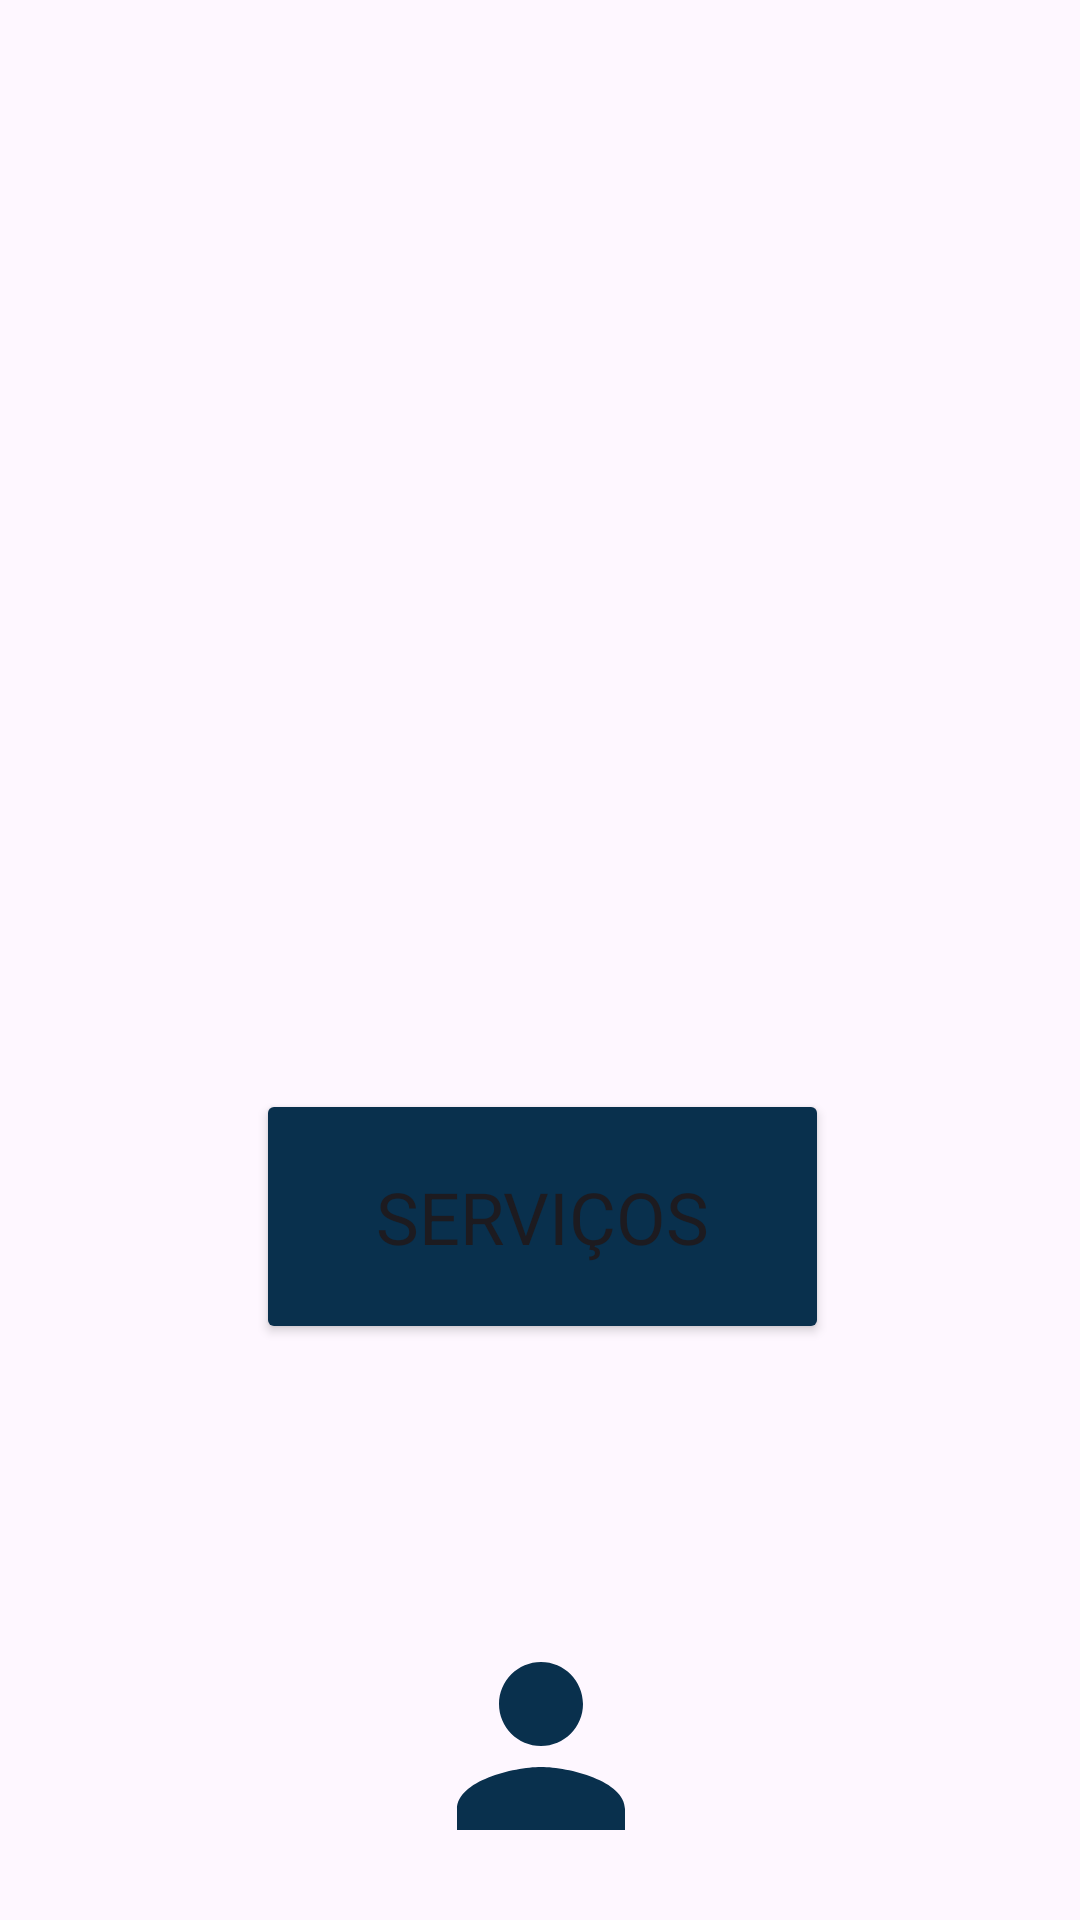

Screen size 1080x1920. Icon name, then its box in pixels as (x1, y1, x2, y2):
pessoa: (457, 1662, 625, 1830)
